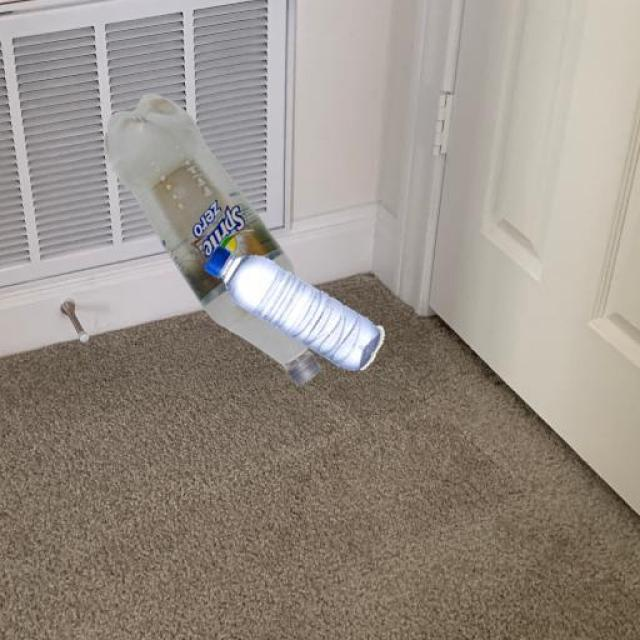bottle: (35, 32, 381, 438)
